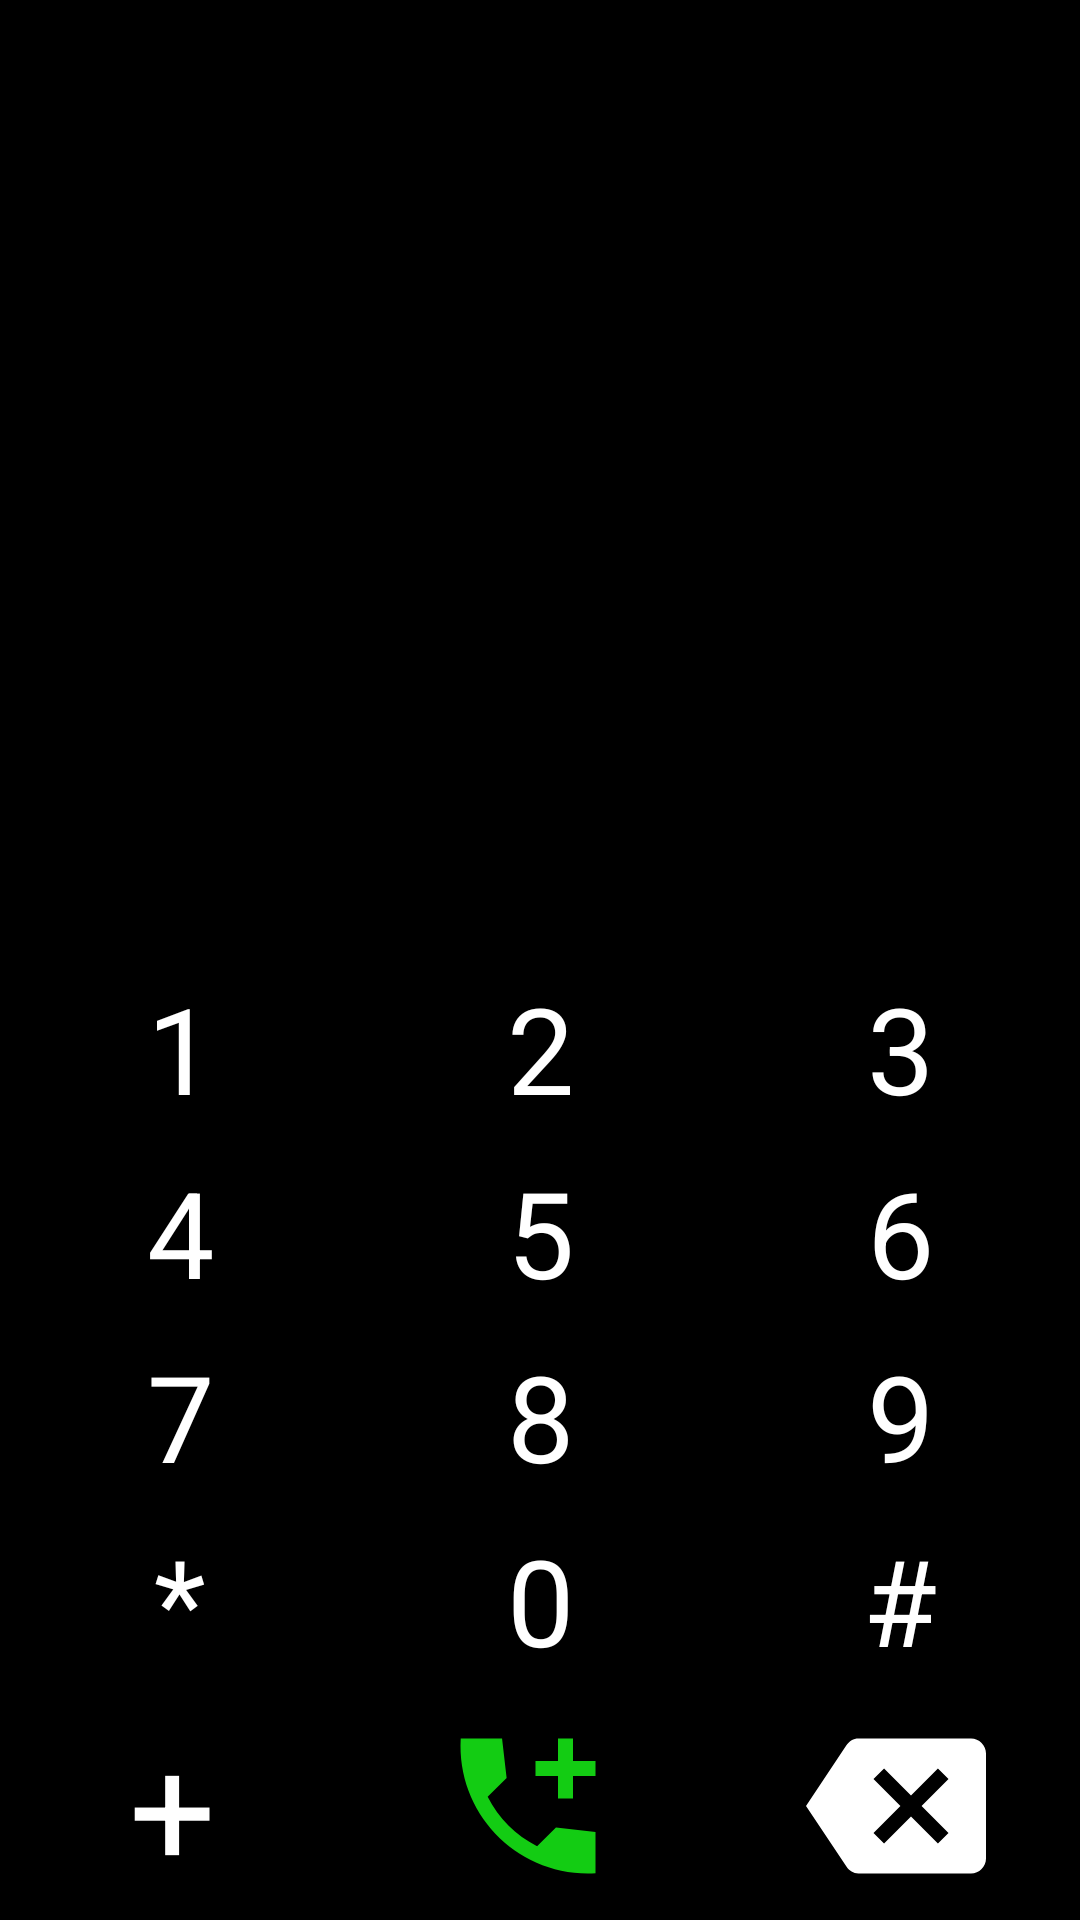

Named icons in this screenshot (1080x1920) and their centers, (x,y):
back: (896,1806)
Call: (528,1806)
